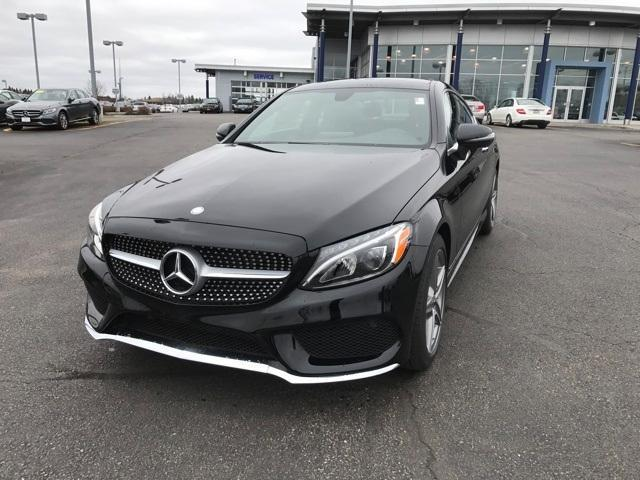C300Coupe: (75, 70, 502, 392)
